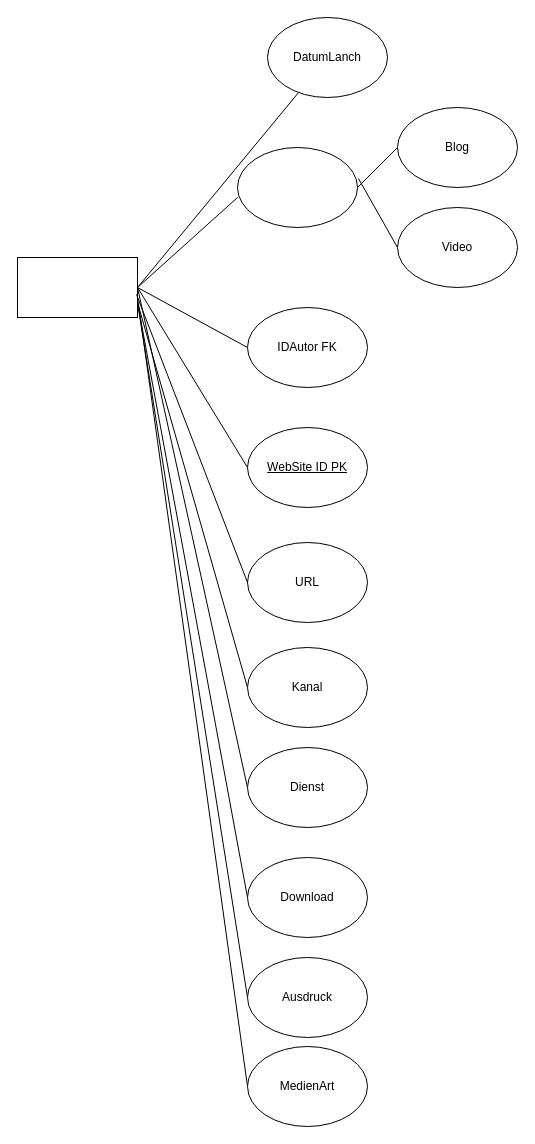
Some shapes in this 535 by 1144 pixel diagram are drawn without their labels. The shapes that lost their labels are listed below. From the top down, each one's box as (x1, y1, x2, y2) in pixels, then its label:
(236, 146, 358, 228): Art
(16, 256, 138, 318): Website
